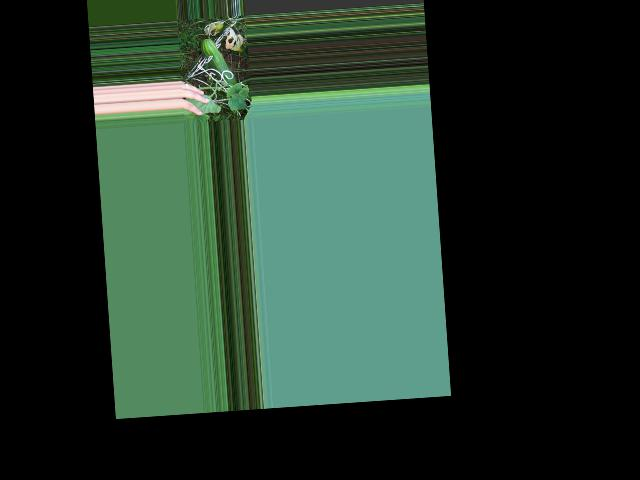cucumber: (200, 37, 236, 88)
